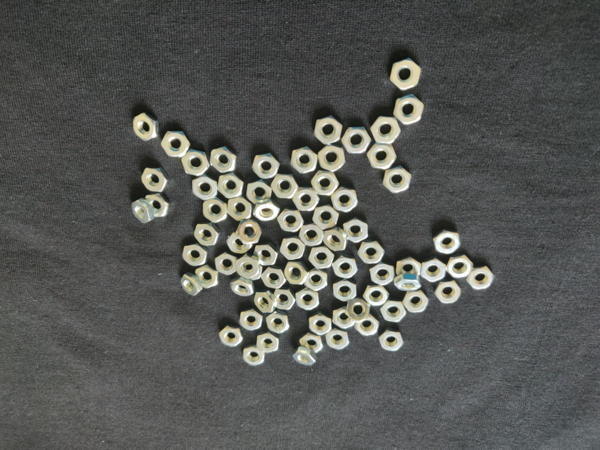nut: (389, 57, 422, 90), (313, 114, 344, 146), (370, 114, 401, 146), (381, 164, 414, 194), (393, 95, 426, 125), (131, 111, 160, 142), (341, 126, 372, 154), (291, 145, 319, 175), (163, 129, 190, 158), (251, 153, 281, 179), (209, 148, 239, 174), (311, 170, 339, 197), (293, 184, 320, 212), (434, 280, 463, 306), (358, 240, 386, 266), (331, 188, 359, 214), (318, 146, 346, 172), (368, 143, 396, 169), (271, 173, 299, 199), (312, 205, 340, 231), (466, 265, 495, 290), (433, 231, 462, 256), (142, 167, 169, 193), (420, 256, 446, 283), (144, 192, 171, 218), (182, 150, 209, 176), (277, 208, 305, 233), (278, 237, 306, 262), (191, 177, 219, 202), (226, 195, 254, 220), (447, 253, 473, 279), (344, 297, 370, 323), (343, 218, 370, 243), (194, 223, 220, 248), (214, 252, 240, 277), (333, 255, 358, 281), (265, 310, 291, 335), (247, 179, 272, 204), (218, 174, 243, 199), (308, 246, 334, 270), (194, 266, 220, 290), (324, 329, 351, 352), (132, 196, 154, 224), (369, 264, 397, 286), (236, 221, 262, 244), (324, 227, 348, 251), (218, 326, 243, 349), (271, 288, 296, 311), (303, 270, 328, 293), (379, 330, 404, 353), (403, 291, 428, 314), (332, 280, 358, 302), (363, 285, 389, 307), (254, 242, 277, 266), (296, 290, 321, 312), (355, 315, 380, 337), (283, 262, 308, 284), (240, 308, 263, 331), (382, 301, 406, 323), (308, 314, 332, 336), (183, 244, 207, 266), (238, 256, 260, 280), (262, 268, 287, 289), (254, 291, 276, 314), (181, 273, 203, 296), (299, 334, 324, 354), (254, 203, 280, 222), (243, 345, 265, 367), (302, 224, 324, 246), (333, 308, 356, 329), (227, 234, 250, 255), (395, 274, 423, 291), (292, 347, 318, 365), (229, 278, 255, 296), (256, 334, 280, 353), (396, 257, 421, 275)
